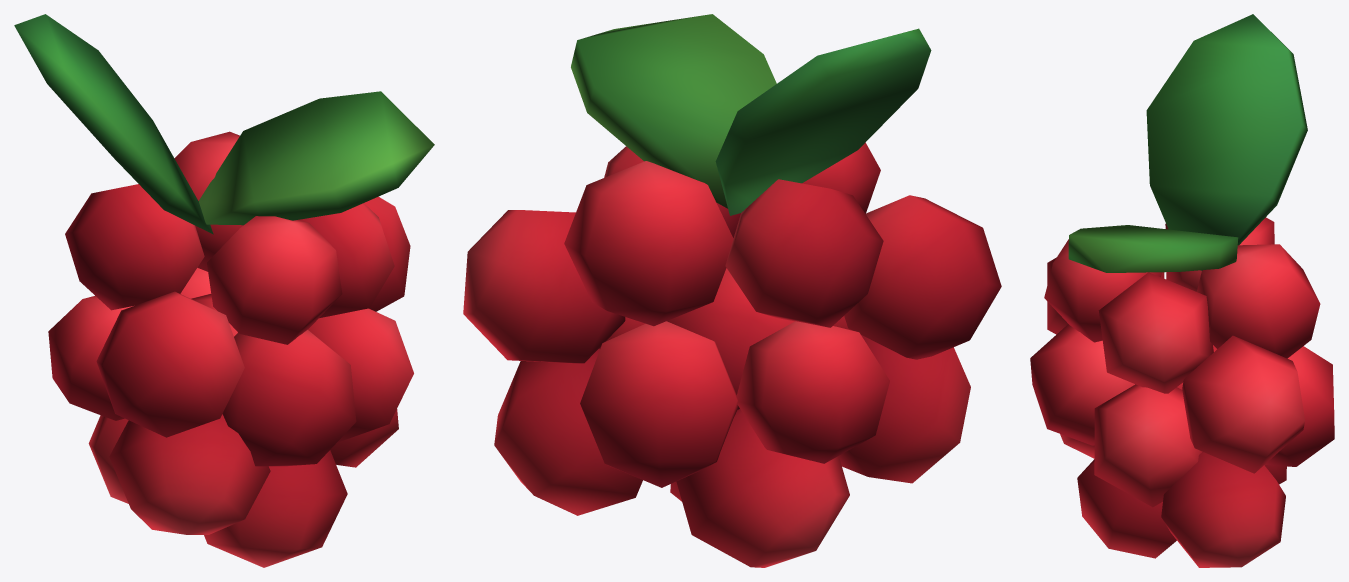
The model's file is SM_Cranberry_A.fbx.
The picture shows the model from 3 angles, left to right: view 1: azimuth 30°, elevation 25°; view 2: azimuth 150°, elevation 25°; view 3: azimuth 270°, elevation 25°; orthographic projection. The views are drawn at different scales.
Parts seen in each view (by area): view 1: SM_Cranberry_A; view 2: SM_Cranberry_A; view 3: SM_Cranberry_A.
Boxes of the visible parts, left/top/right/bottom form: SM_Cranberry_A: left=14, top=14, right=434, bottom=567; SM_Cranberry_A: left=463, top=14, right=1001, bottom=567; SM_Cranberry_A: left=1030, top=14, right=1334, bottom=567.
Size of the model in its own units: 8.45 by 11.2 by 6.81.
